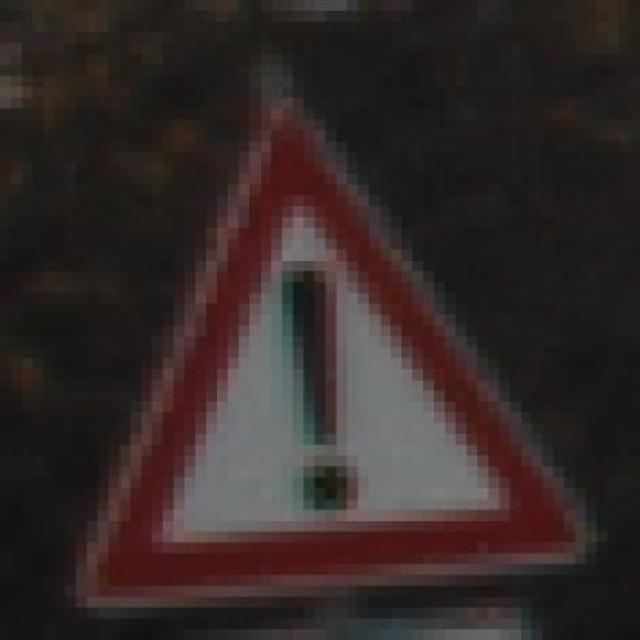Attention Please-: (75, 86, 597, 608)
